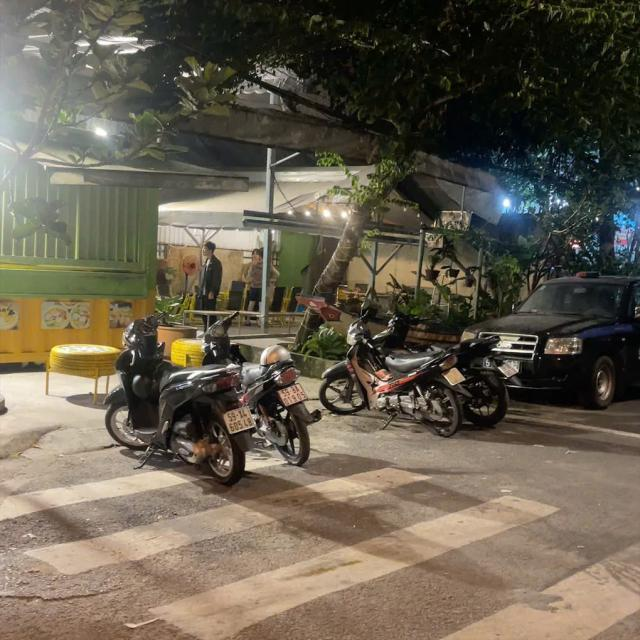car: (444, 275, 640, 421)
motorcycle: (107, 308, 260, 492), (318, 319, 468, 440), (256, 336, 313, 479)
plate: (220, 402, 260, 436), (276, 377, 310, 407)
